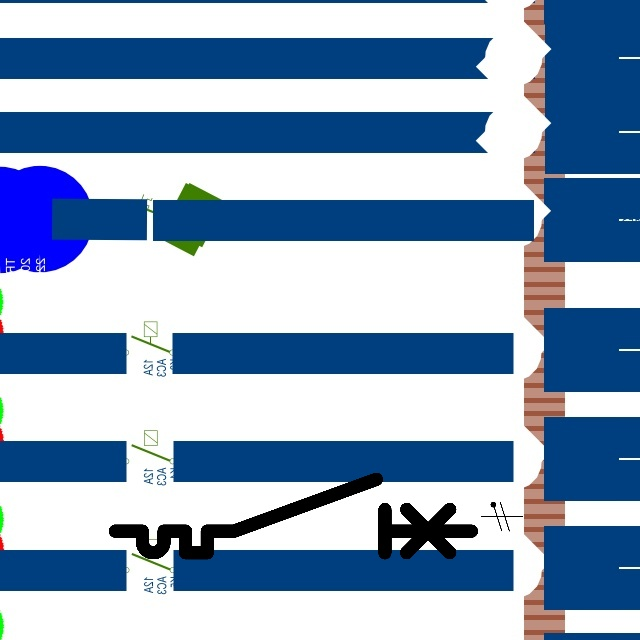interruptor_termomagnetico: (106, 470, 481, 562)
